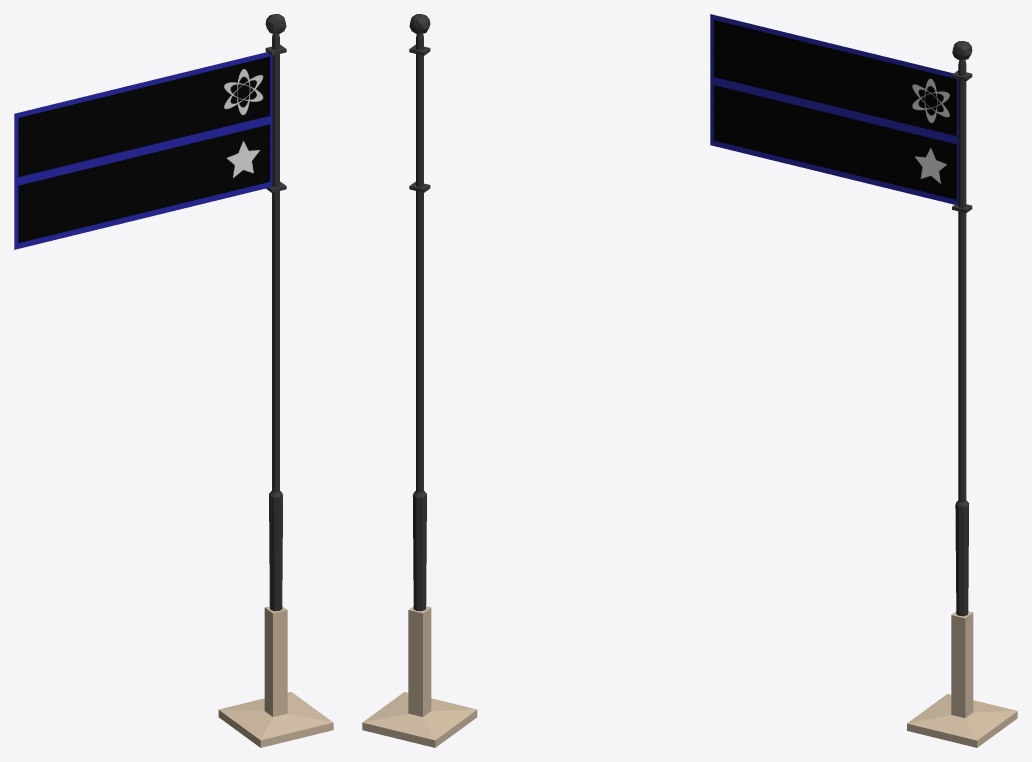
The model's file is PoliceFlag.glb.
The picture shows the model from 3 angles, left to right: view 1: azimuth 30°, elevation 25°; view 2: azimuth 150°, elevation 25°; view 3: azimuth 330°, elevation 25°; orthographic projection. The views are drawn at different scales.
Parts seen in each view (by area): view 1: flagPlane, flagPole; view 2: flagPole; view 3: flagPlane, flagPole.
Boxes of the visible parts, x1,y1,x2,y2 form: flagPlane: (14,52,272,249); flagPole: (218,14,333,747); flagPole: (362,14,477,747); flagPlane: (710,14,958,204); flagPole: (907,41,1017,747).
Bounding box in the file's own units: 5.72 × 13 × 1.4.
2 materials, 2 textured.
